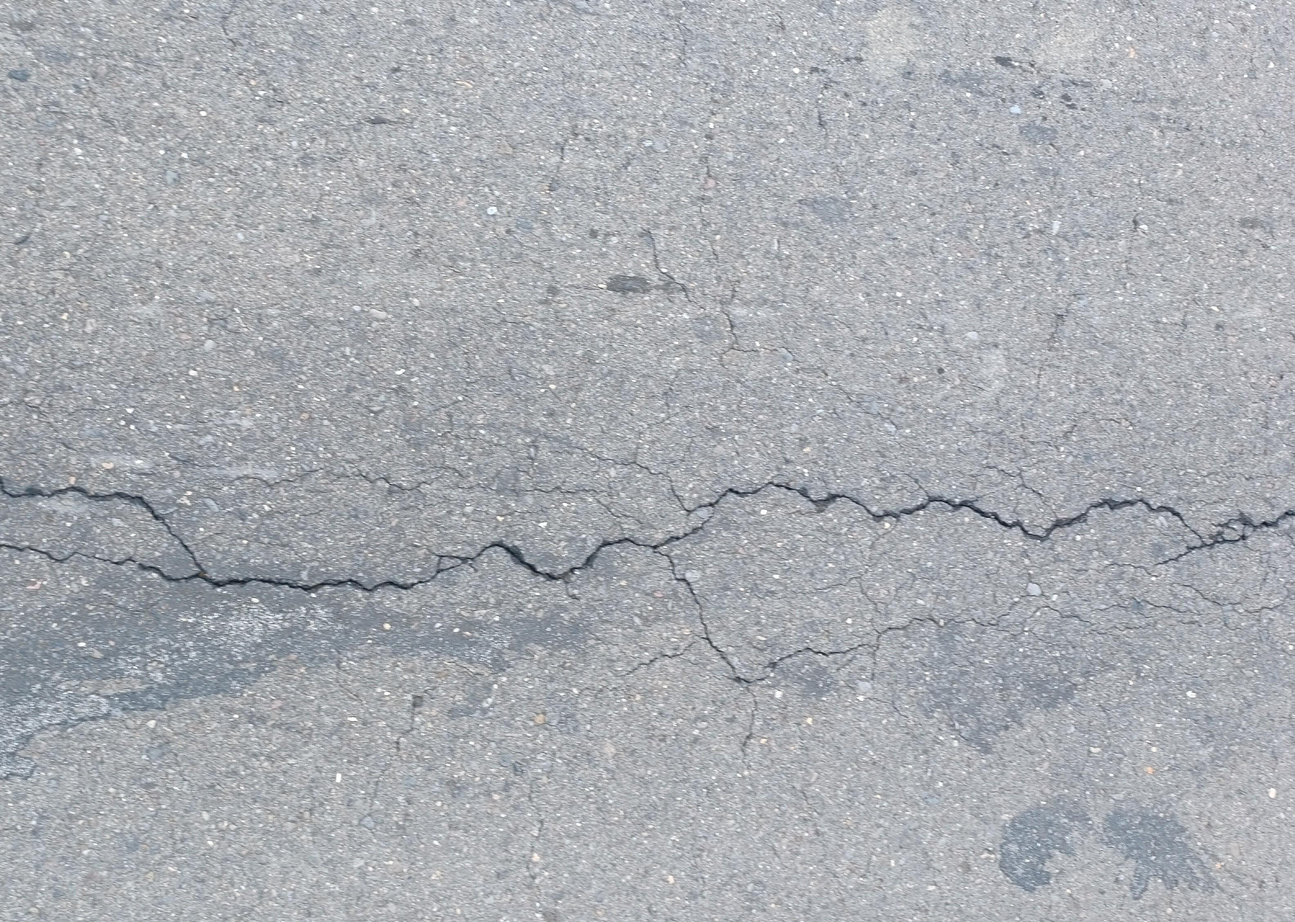GRIETA: (0, 510, 715, 594), (707, 481, 1294, 549), (0, 485, 205, 572)
PIEL DE COCODRILO: (4, 131, 870, 528), (548, 534, 1295, 792), (950, 304, 1133, 521)
